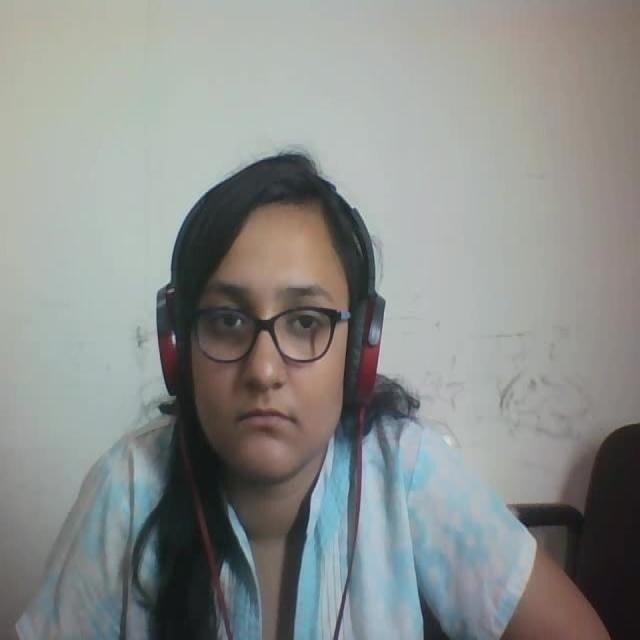Engaged: (139, 144, 419, 492)
